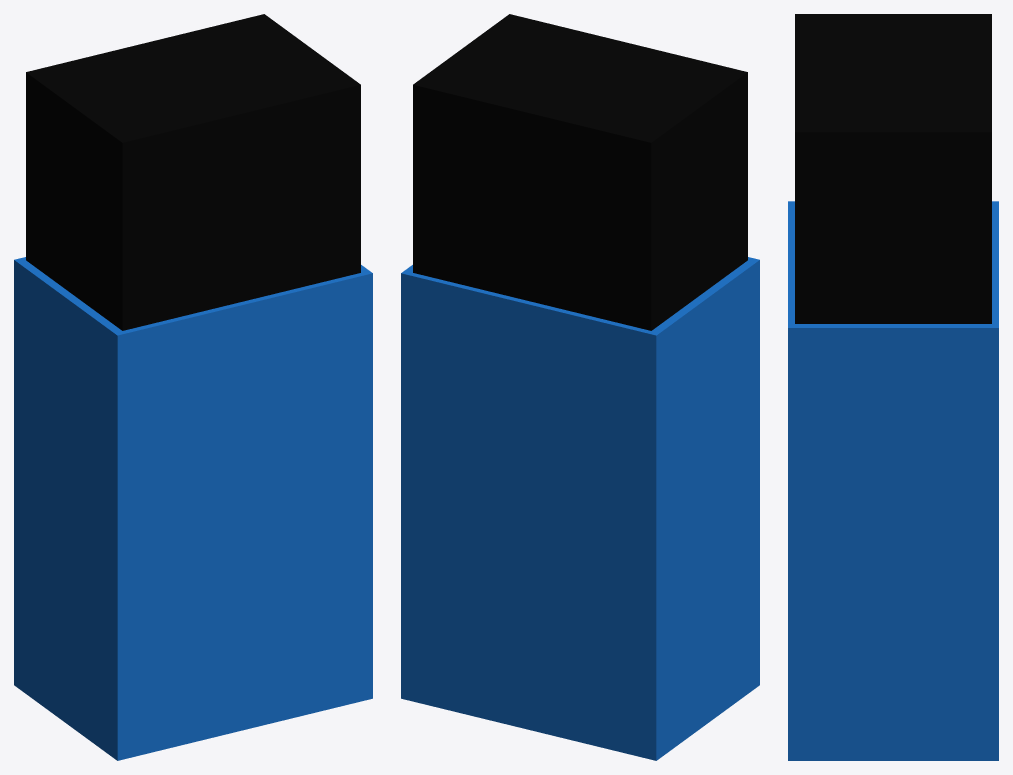
The model's file is SM_camera in_a_box.fbx.
3 views of the same model, side by side, from view 1: azimuth 30°, elevation 25°; view 2: azimuth 150°, elevation 25°; view 3: azimuth 270°, elevation 25° (orthographic).
Parts seen in each view (by area): view 1: camera_in_a_box; view 2: camera_in_a_box; view 3: camera_in_a_box.
Part boxes in pixels (x1=…): camera_in_a_box: x1=14, y1=14, x2=372, y2=760; camera_in_a_box: x1=401, y1=14, x2=759, y2=760; camera_in_a_box: x1=788, y1=14, x2=998, y2=760.
Bounding box in the file's own units: 12.1 × 27.77 × 8.49.
